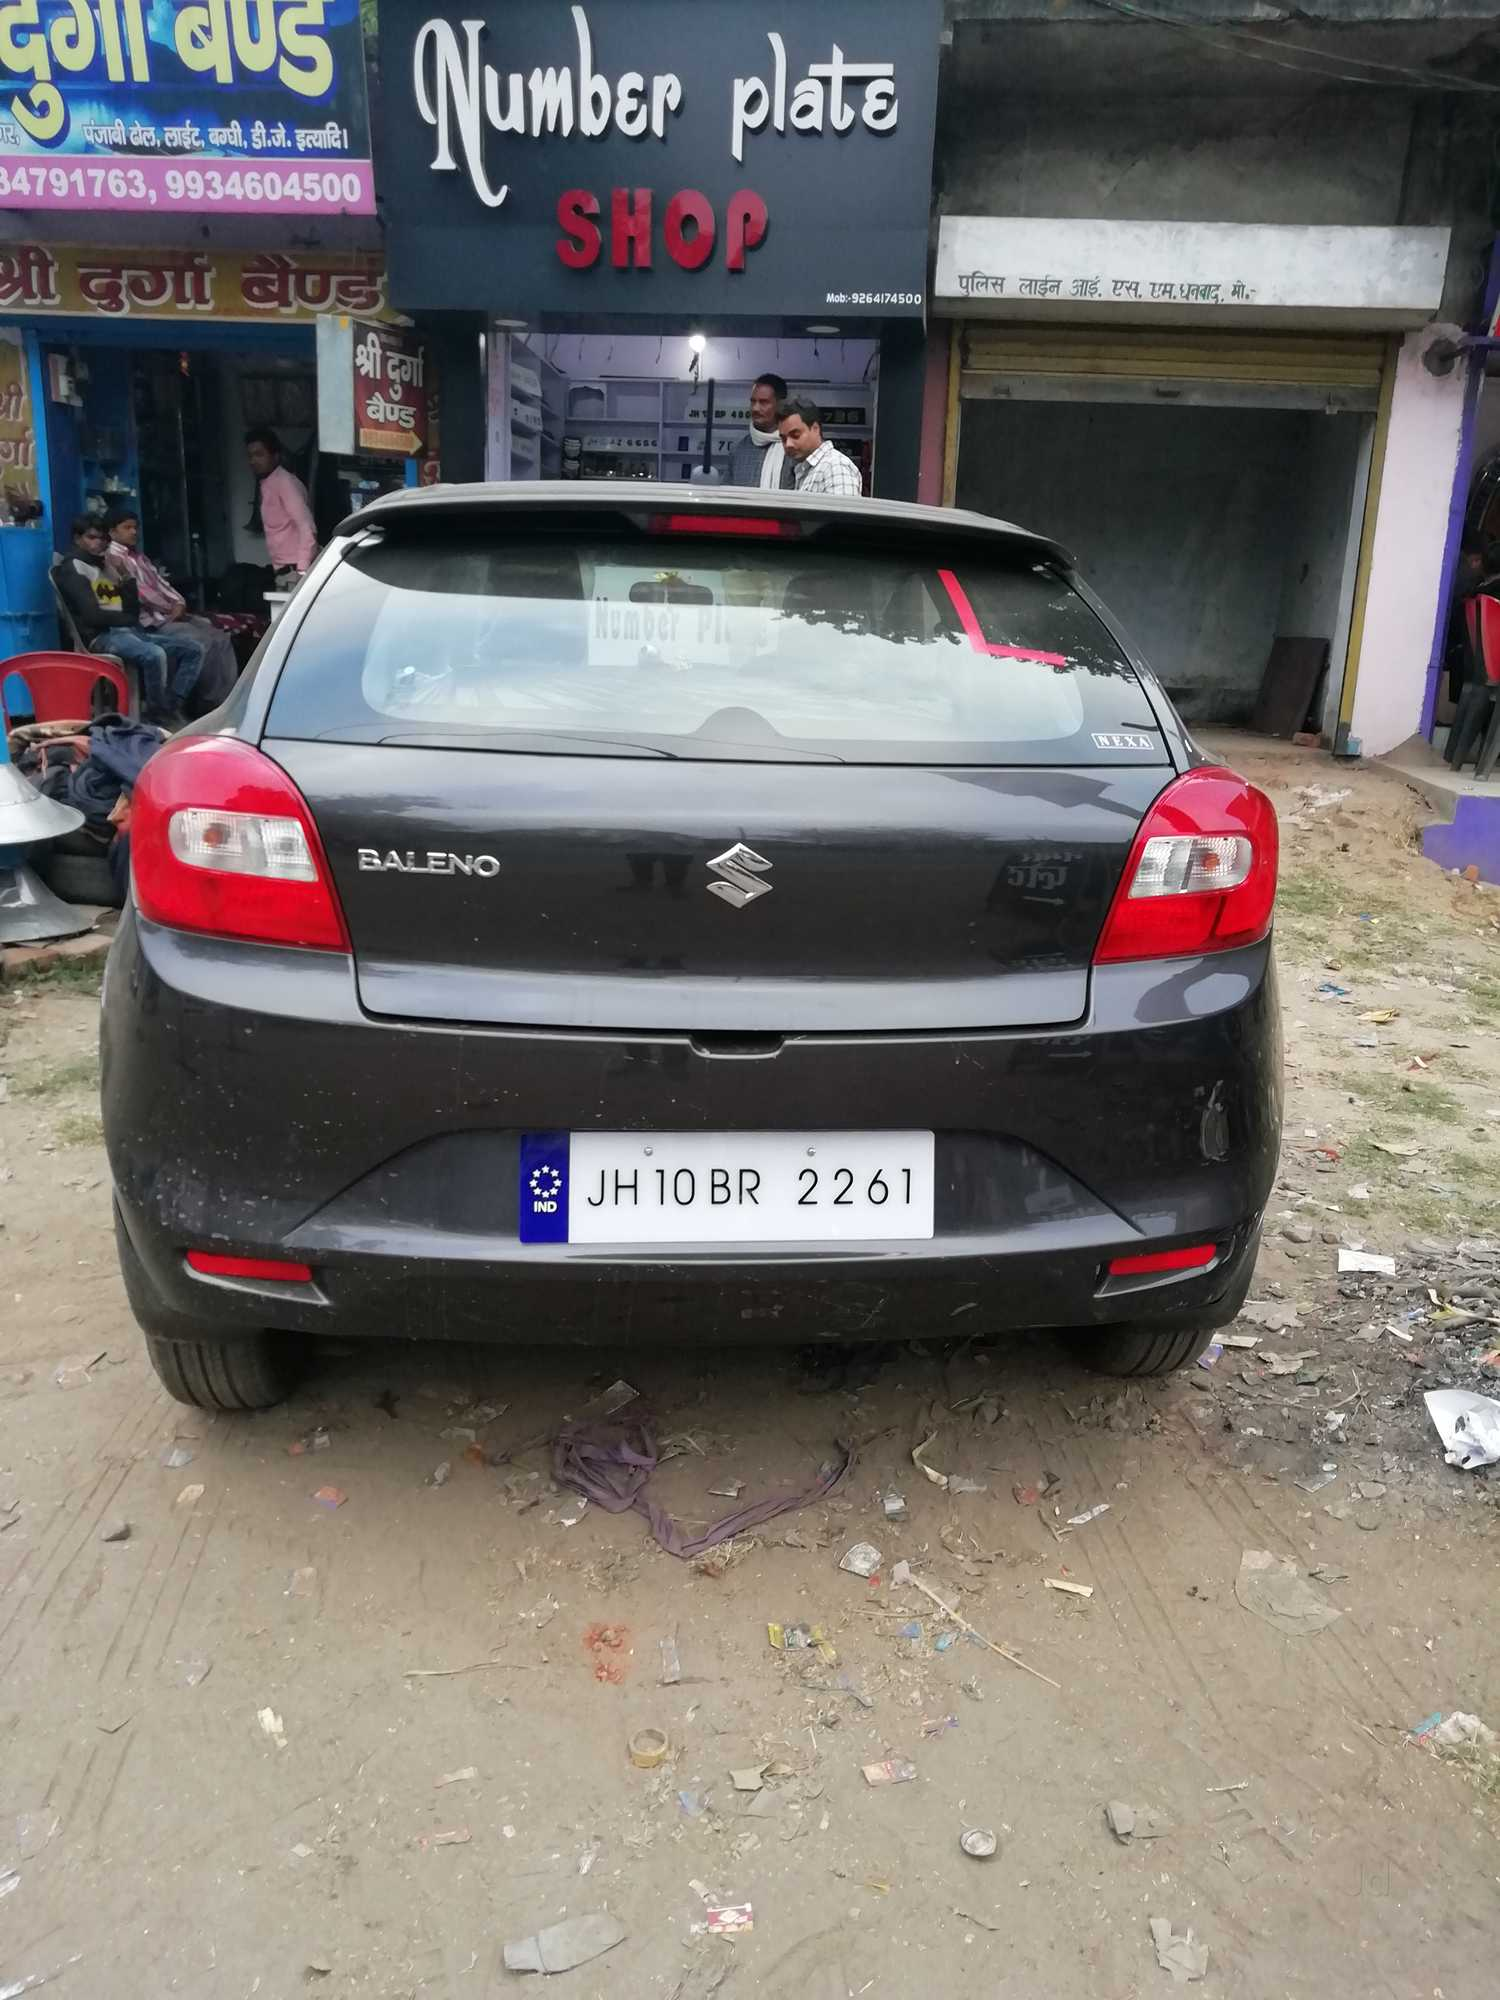number_plate: (511, 1129, 944, 1254)
